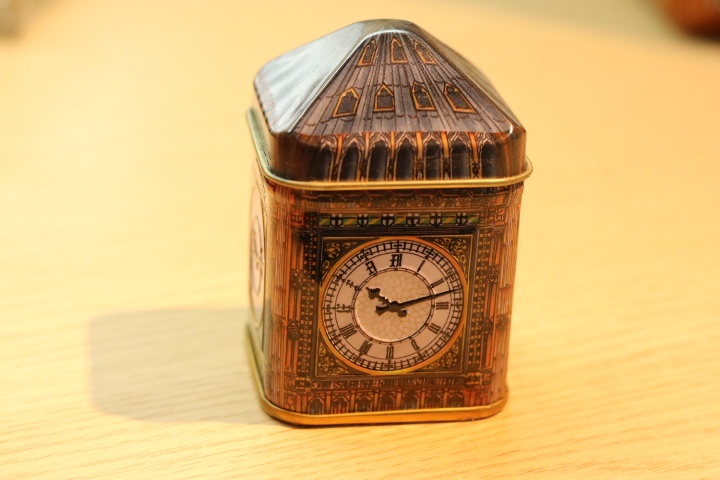Big Ben: (222, 8, 549, 443)
